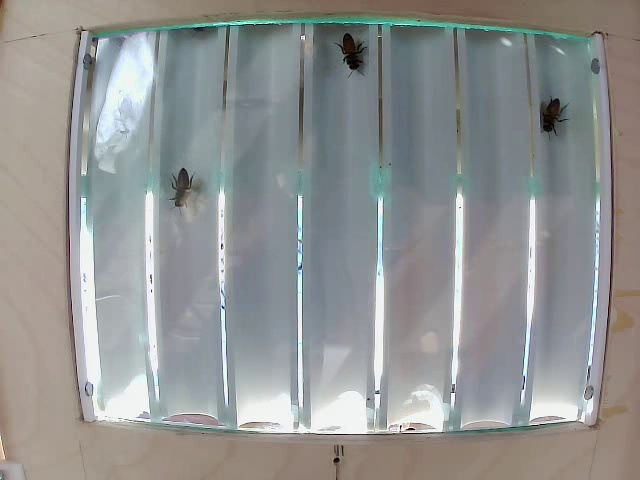bee: (153, 165, 211, 217), (328, 28, 374, 85), (534, 101, 569, 147)
